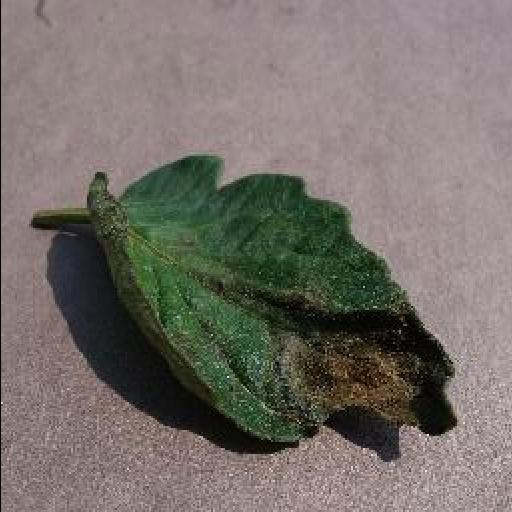disease_tomato: (86, 150, 462, 446)
